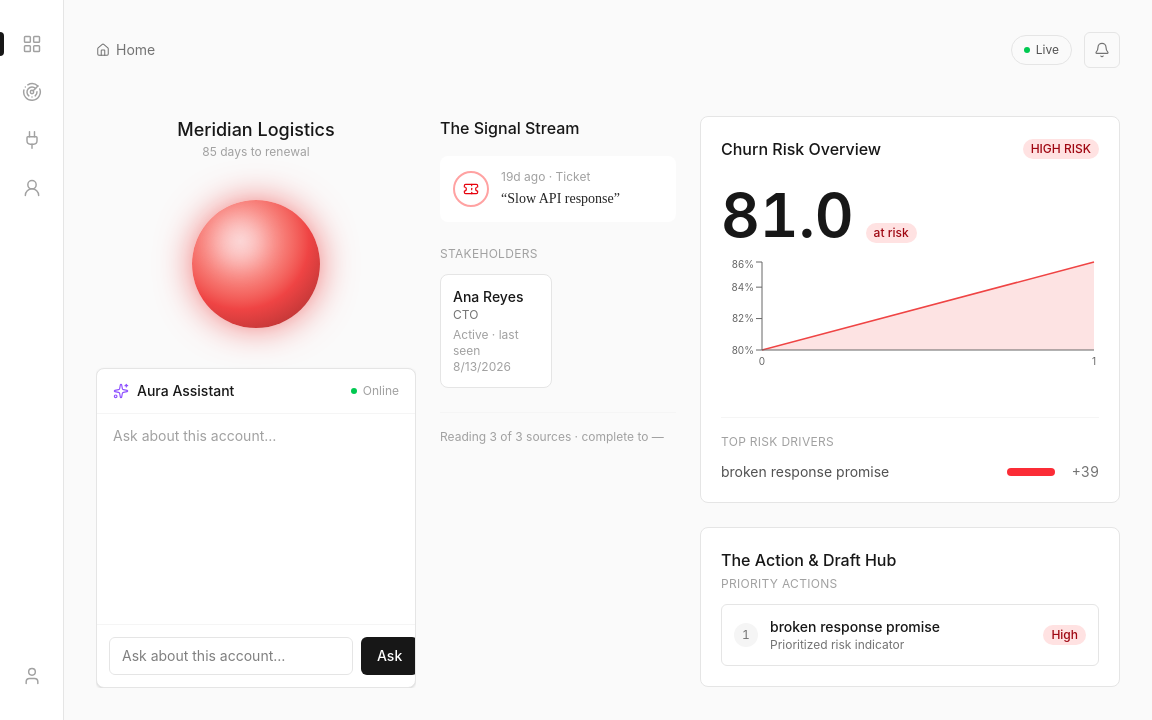
Test: DashboardPage › opens the evidence panel when a contribution bar is clicked
Click the text "broken response promise" below "Top risk drivers" at (805, 472), box [721,463,889,480]
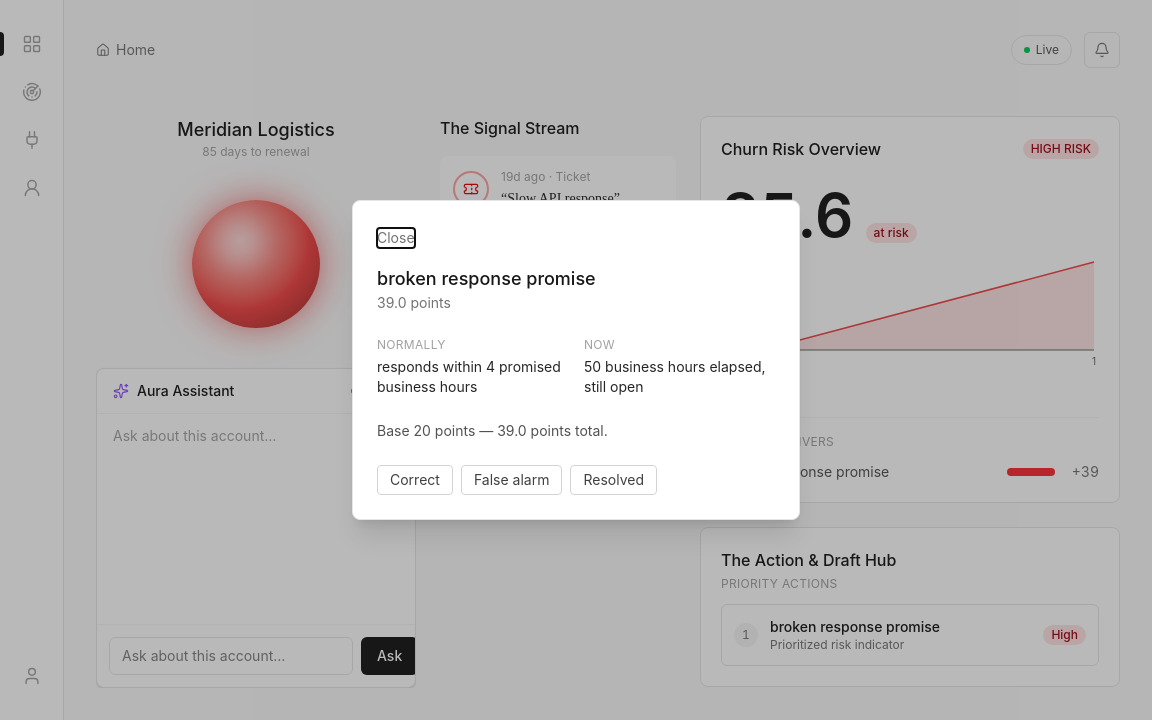
Now the text "responds within 4 promised business hours" is shown, box [377,357,568,397]
